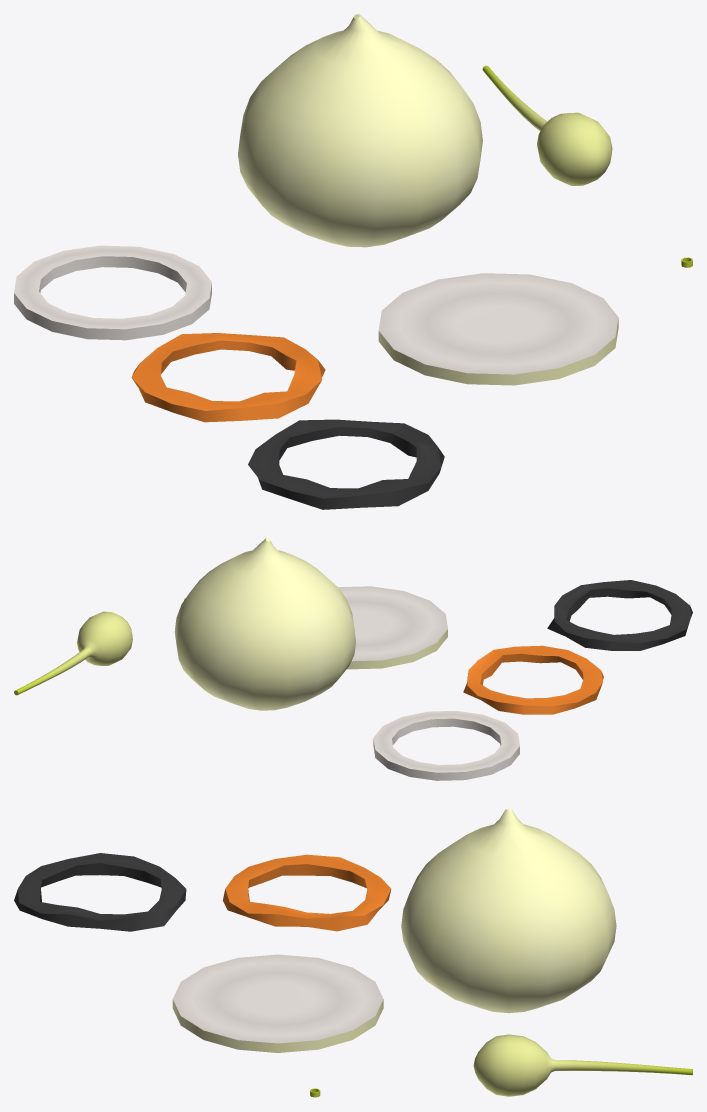
File: onion.fbx
3 renders of one model, top to bottom at view 1: azimuth 30°, elevation 25°; view 2: azimuth 150°, elevation 25°; view 3: azimuth 270°, elevation 25°, orthographic. The views are drawn at different scales.
Visible parts, largest first — view 1: onion_White, onion_White_Slice, onion_Ring, onion_Ring_Burnt, onion_Ring_Fried, onion_Spring; view 2: onion_White, onion_White_Slice, onion_Ring, onion_Ring_Burnt, onion_Ring_Fried, onion_Spring; view 3: onion_White, onion_White_Slice, onion_Ring_Burnt, onion_Ring_Fried, onion_Spring.
Boxes of the visible parts, box(x1,y1,x2,y2) form: onion_White: box(238, 14, 482, 247); onion_White_Slice: box(378, 273, 618, 385); onion_Ring: box(14, 245, 211, 340); onion_Ring_Burnt: box(248, 419, 444, 509); onion_Ring_Fried: box(131, 333, 325, 422); onion_Spring: box(482, 65, 612, 185); onion_White: box(174, 538, 355, 710); onion_White_Slice: box(338, 586, 447, 669); onion_Ring: box(373, 710, 519, 780); onion_Ring_Burnt: box(547, 580, 692, 650); onion_Ring_Fried: box(463, 645, 603, 714); onion_Spring: box(14, 611, 132, 695); onion_White: box(401, 809, 616, 1013); onion_White_Slice: box(172, 954, 383, 1052); onion_Ring_Burnt: box(14, 853, 186, 931); onion_Ring_Fried: box(223, 854, 391, 931); onion_Spring: box(473, 1034, 692, 1096).
Bounding box in the file's own units: 3.26 × 3.78 × 1.21.
